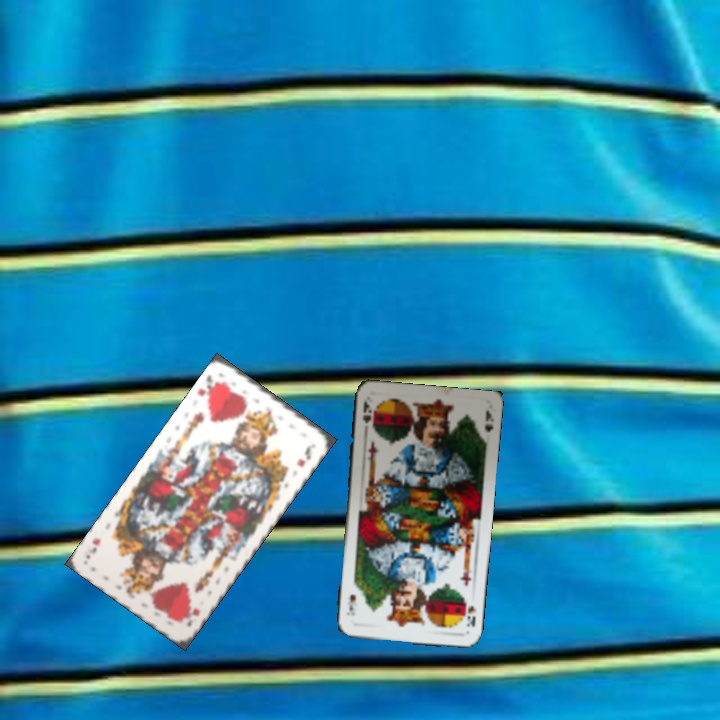HK: (193, 370, 223, 406), (176, 603, 203, 629)
SK: (359, 397, 377, 435), (463, 602, 479, 630)
